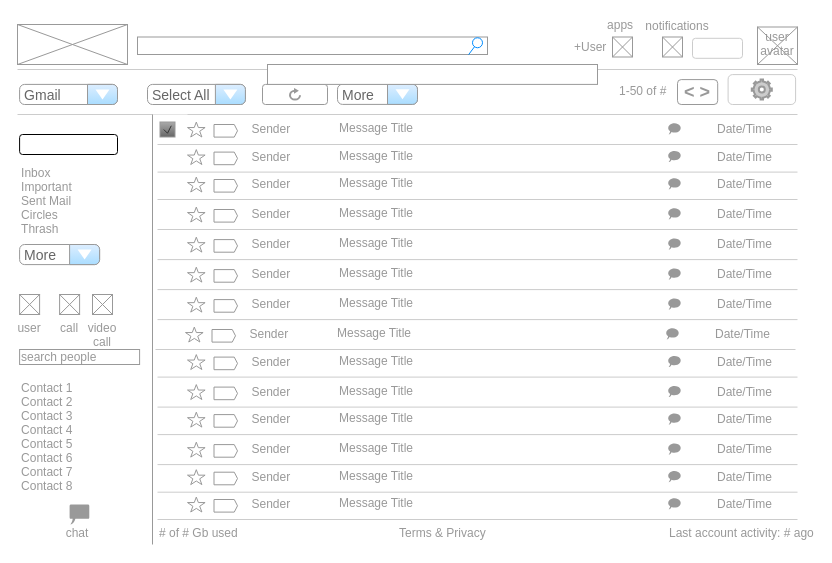
This 832x563 diagram has some shape labels left out. Each missing label, with the centre of its shape:
"COMPOSE" goes at point 68,144.
"Logo" goes at point 72,44.
"mxGraph" goes at point 312,45.
"possible notifications" goes at point 432,74.
"Share" goes at point 717,47.
